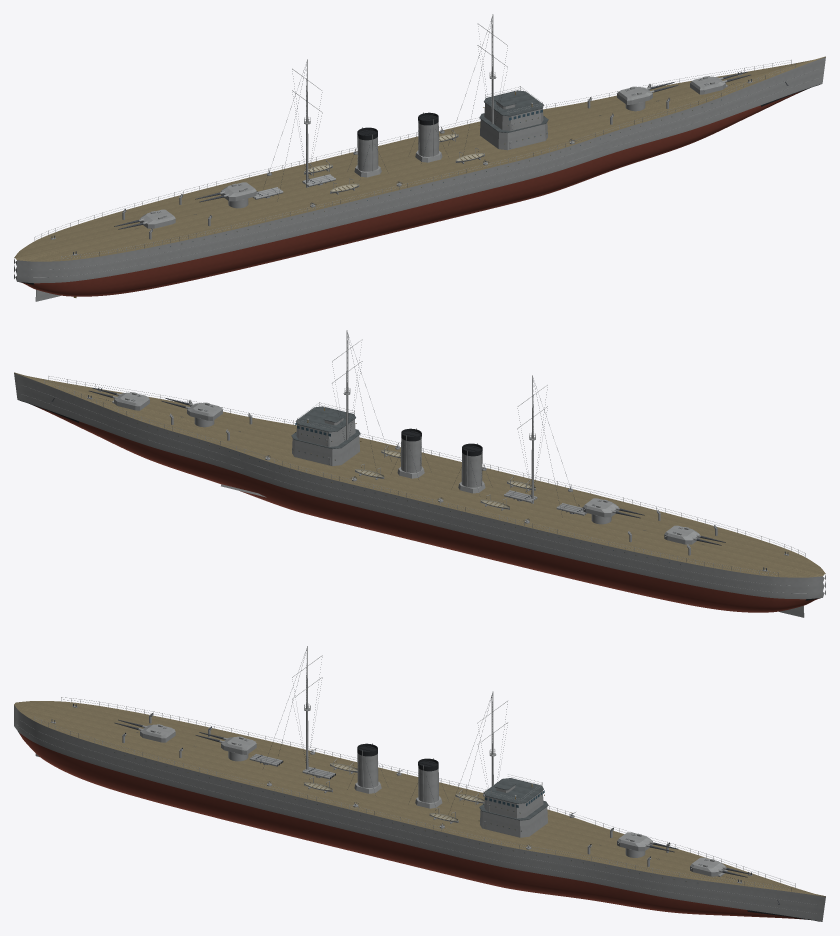
File: mare_ca30.glb
3 renders of one model, top to bottom at view 1: azimuth 30°, elevation 25°; view 2: azimuth 150°, elevation 25°; view 3: azimuth 330°, elevation 25°, orthographic.
Visible parts, largest first — view 1: Mediterraneo cruiser; view 2: Mediterraneo cruiser; view 3: Mediterraneo cruiser.
Boxes of the visible parts, x1,y1,x2,y2 form: Mediterraneo cruiser: (14,14,825,301); Mediterraneo cruiser: (14,330,825,617); Mediterraneo cruiser: (14,646,825,921).
Size of the model in its own units: 195 by 40.99 by 21.09.
Materials: 9 (8 with a texture image).
